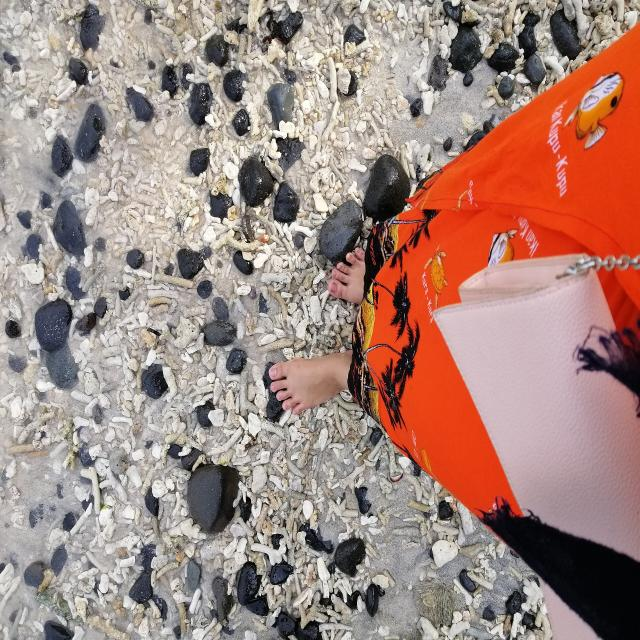Pecahan Agregat: (36, 39, 397, 607)
